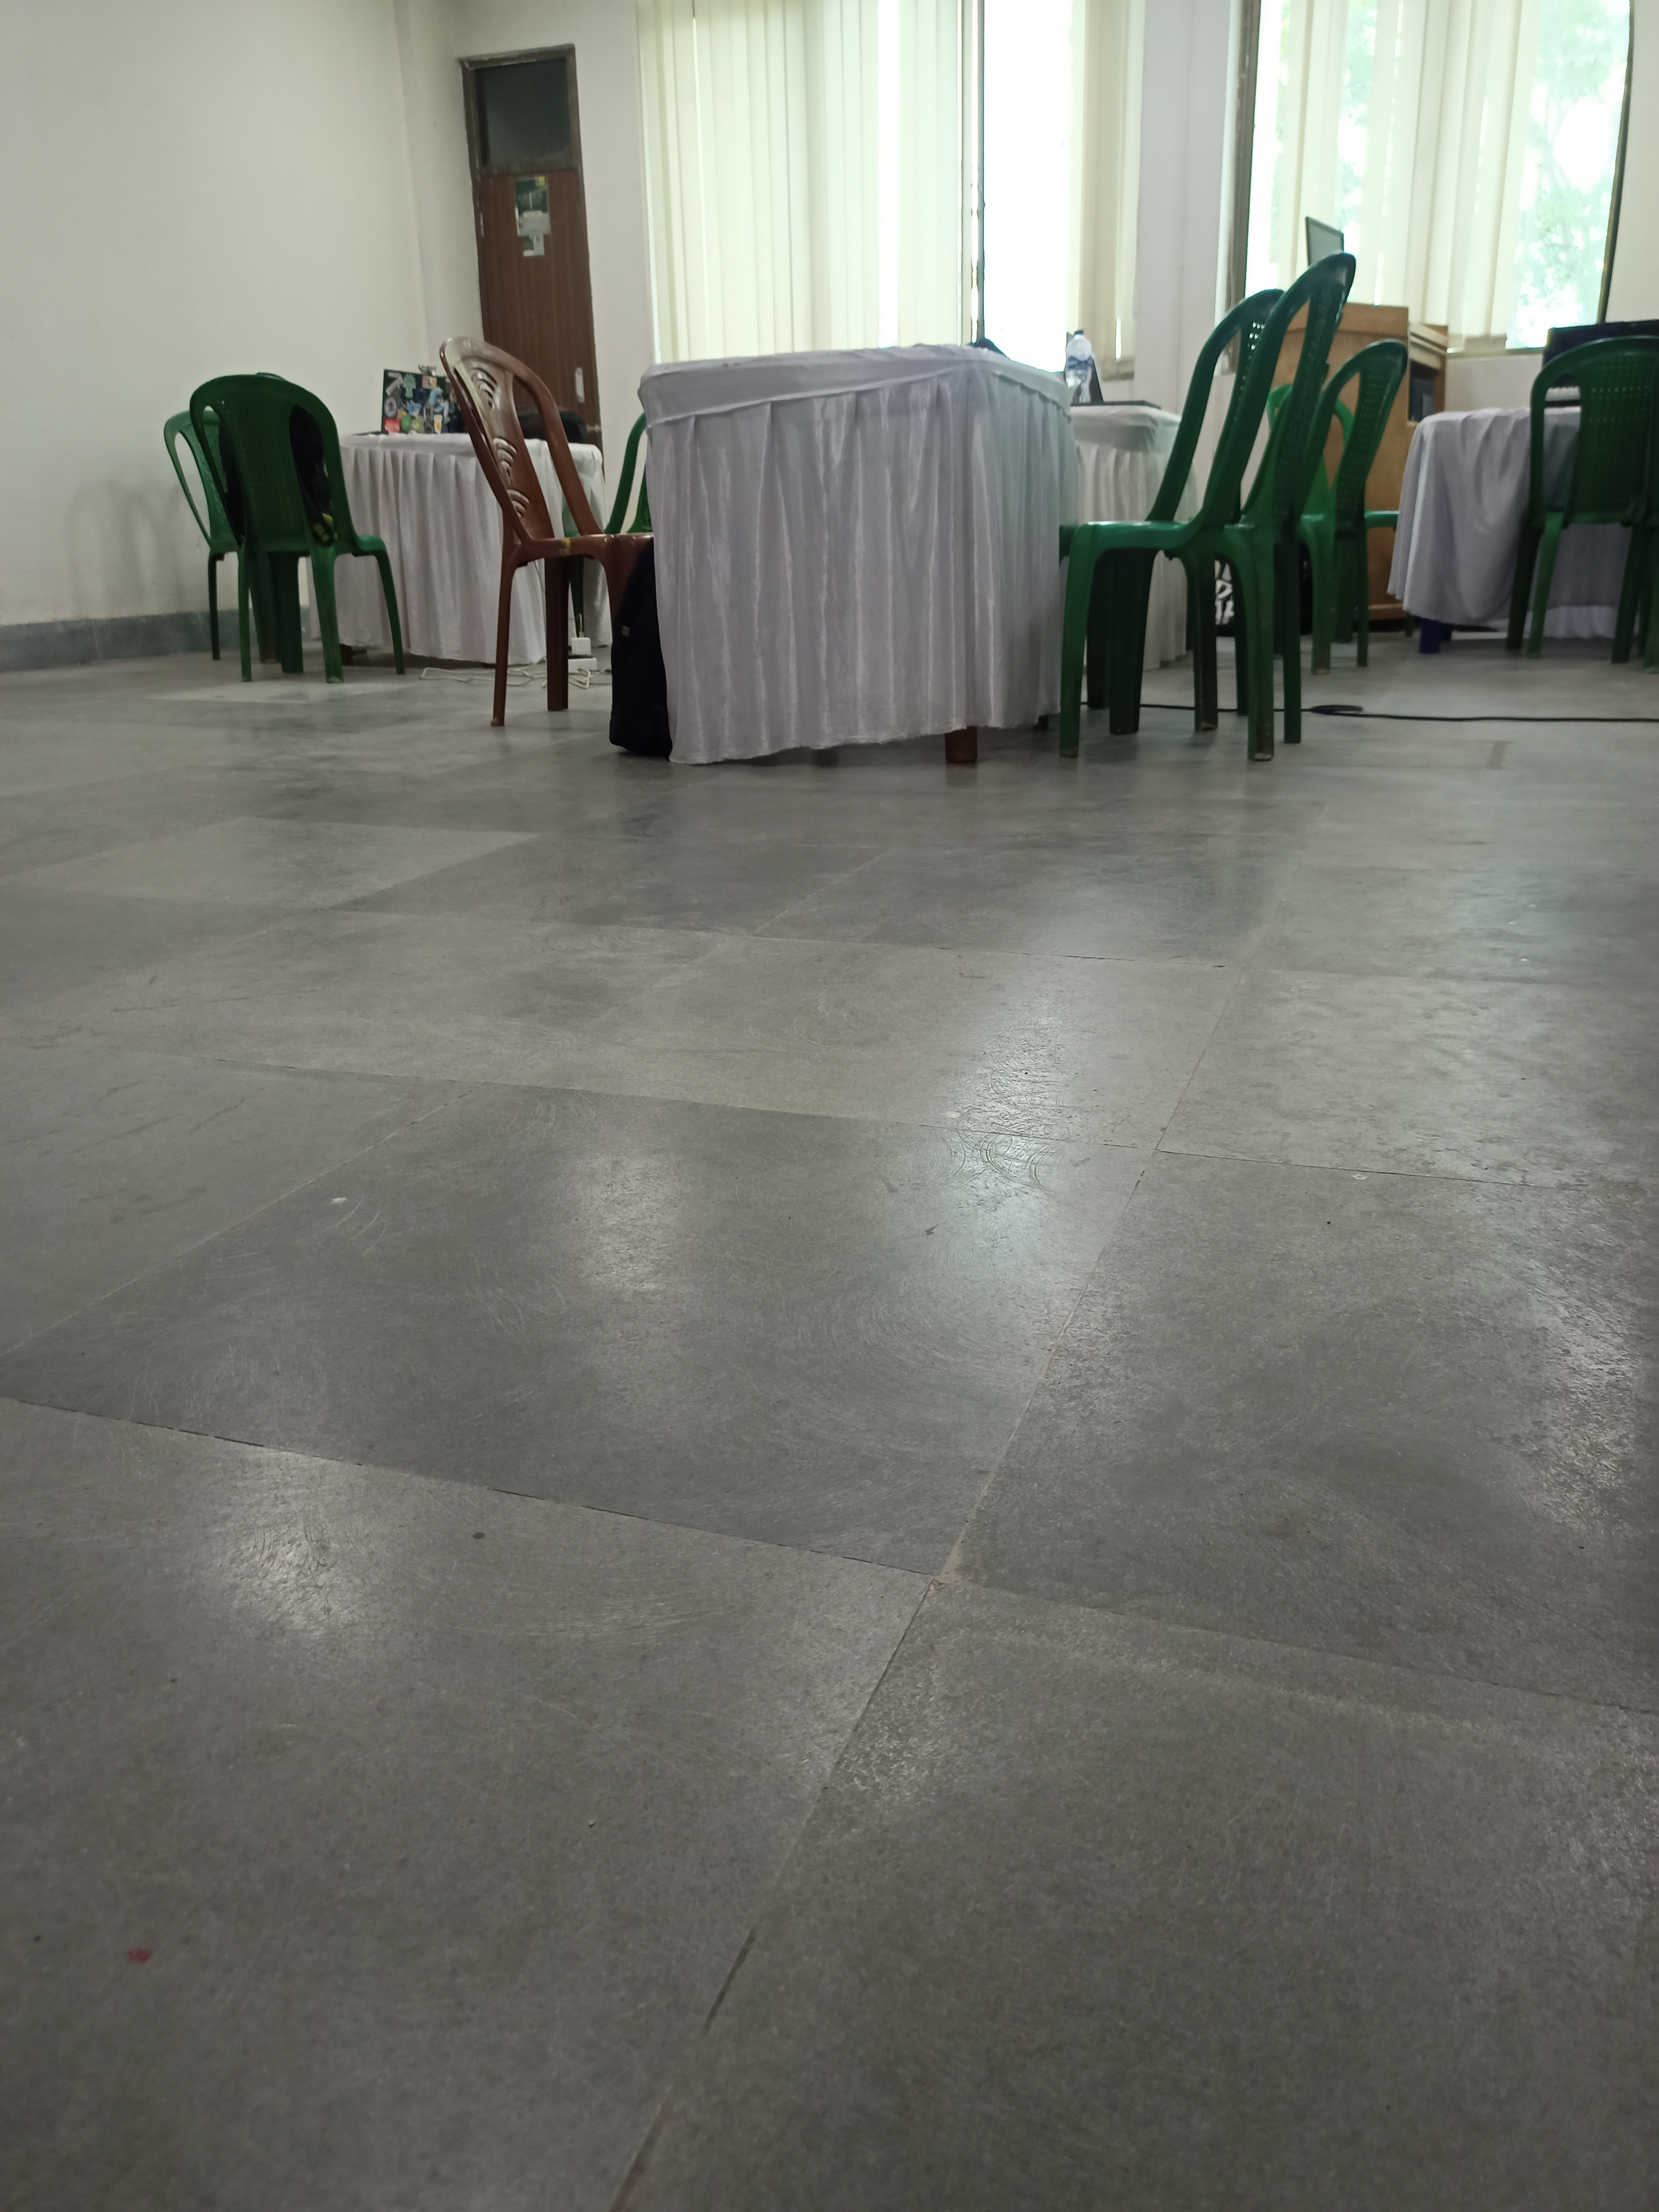Obstacle: (638, 352, 1636, 749), (186, 394, 587, 688)
Path: (75, 787, 1605, 2000)
